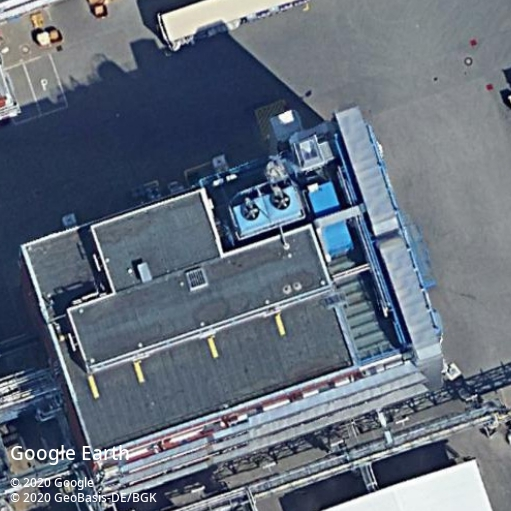Vent: (271, 192, 290, 210), (240, 202, 259, 220)
